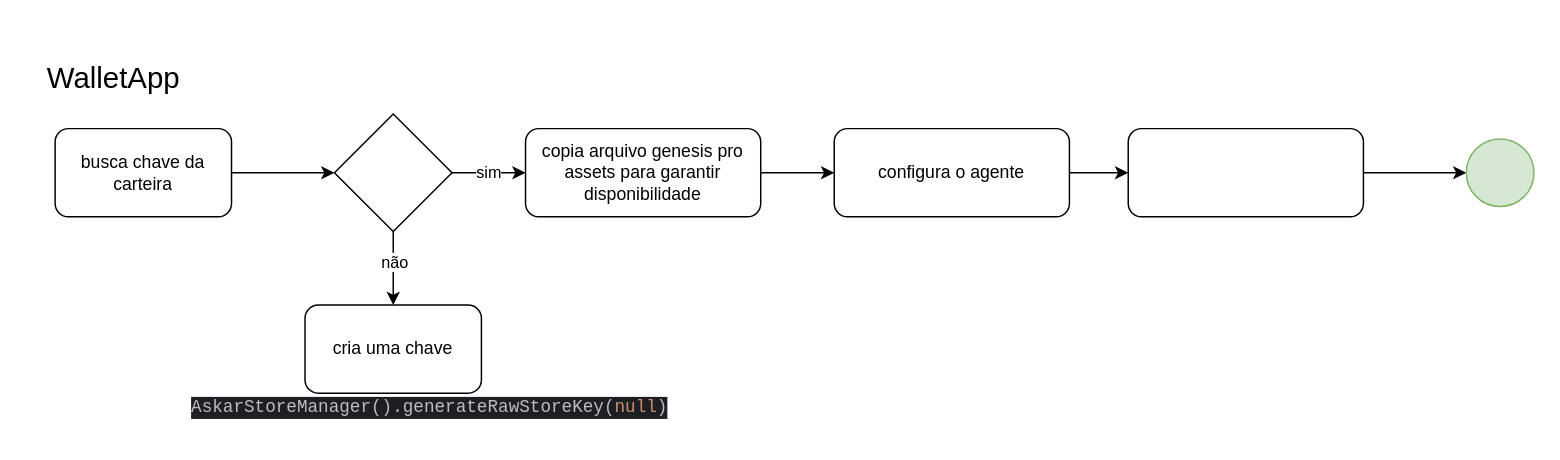
Some shapes in this 1560 by 460 pixel diagram are drawn without their labels. Here are the shapes that lost their labels. From the top down, the centre of each, then its label:
At (392,172): "chave já existe?".
At (1245,172): "inicializa o agente".
